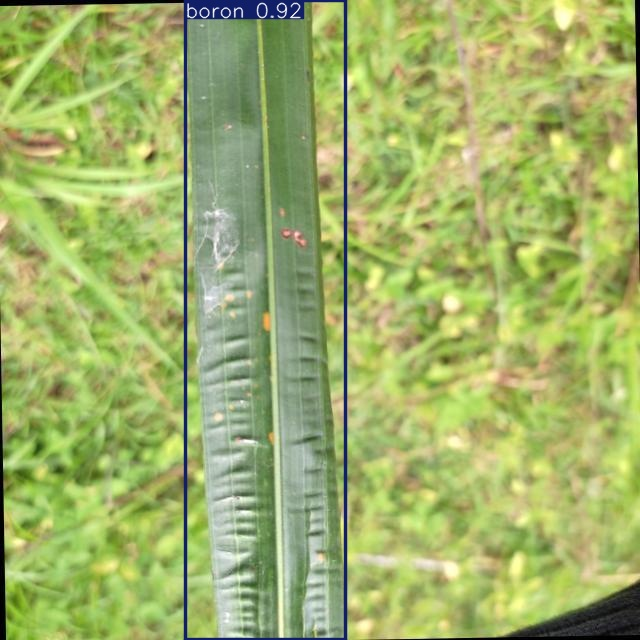nitrogen: (185, 1, 345, 640)
